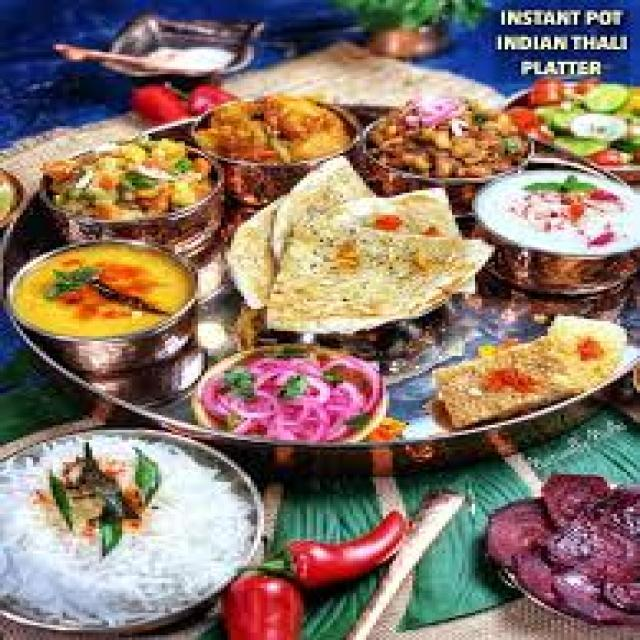dal: (418, 308, 626, 433)
papad: (228, 167, 483, 339)
rice: (13, 439, 270, 629)
roti: (229, 159, 480, 346)
sweet: (475, 162, 637, 262)
veg-fry: (424, 312, 619, 437), (4, 237, 204, 343), (353, 86, 530, 203), (184, 82, 361, 178)
